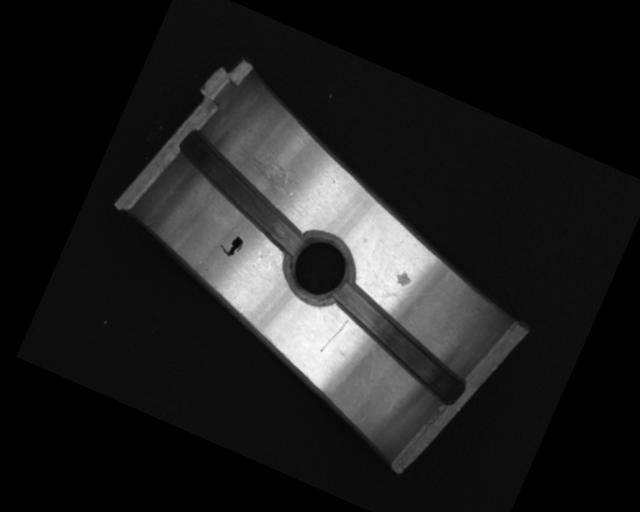blot: (216, 229, 246, 260)
bruise: (392, 267, 414, 289)
gap: (158, 127, 327, 257)
hole: (312, 277, 484, 407), (273, 226, 361, 313)
nick: (318, 312, 351, 358)
scratch: (222, 146, 317, 219)
